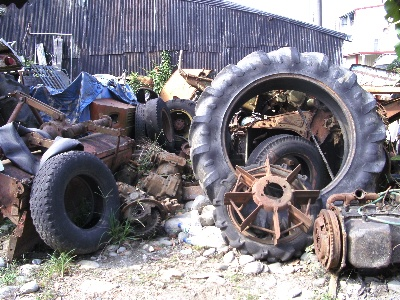plastic_bag: (30, 71, 137, 123)
tire: (189, 47, 388, 215), (27, 149, 122, 256), (144, 97, 176, 148)
